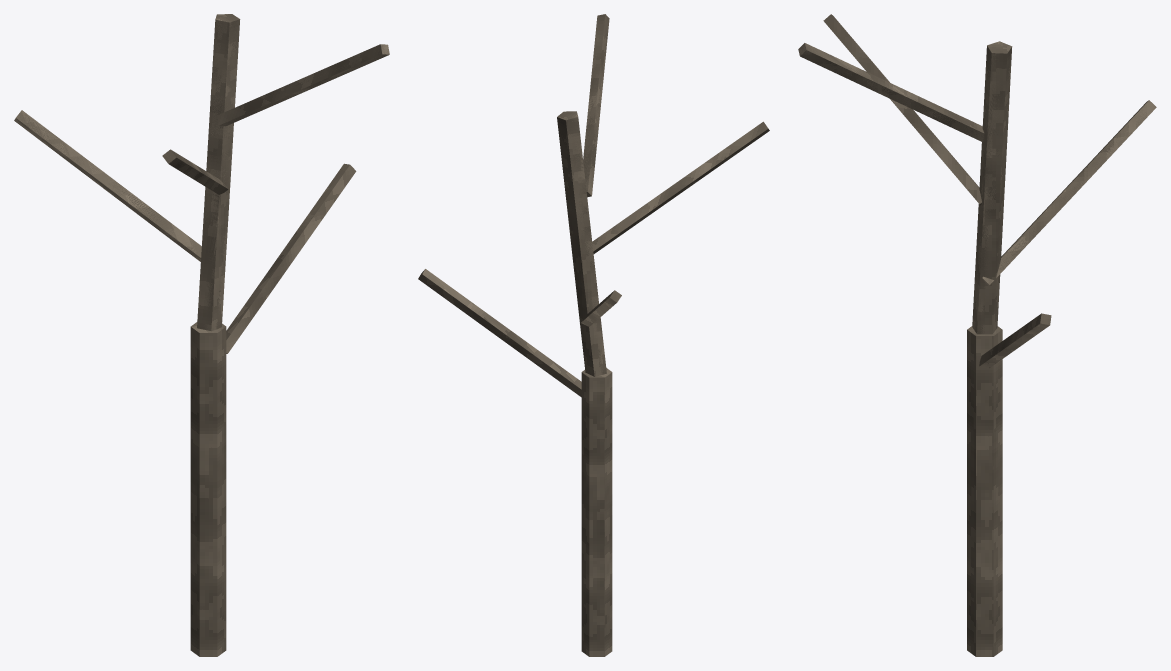
The model's file is arvoreta_seca.glb.
The picture shows the model from 3 angles, left to right: view 1: azimuth 30°, elevation 25°; view 2: azimuth 150°, elevation 25°; view 3: azimuth 270°, elevation 25°; orthographic projection. The views are drawn at different scales.
Parts seen in each view (by area): view 1: Inteiro, Peca_01, Peca_03, Peca_02; view 2: Inteiro, Peca_01, Peca_02, Peca_03; view 3: Inteiro, Peca_03, Peca_01, Peca_02.
Boxes of the visible parts, left/top/right/bottom form: Inteiro: left=14, top=19, right=389, bottom=656; Peca_01: left=197, top=14, right=239, bottom=330; Peca_03: left=15, top=44, right=389, bottom=259; Peca_02: left=168, top=150, right=350, bottom=353; Inteiro: left=419, top=14, right=768, bottom=656; Peca_01: left=557, top=111, right=606, bottom=374; Peca_02: left=418, top=129, right=769, bottom=375; Peca_03: left=583, top=14, right=621, bottom=301; Inteiro: left=798, top=14, right=1156, bottom=656; Peca_03: left=798, top=44, right=1156, bottom=285; Peca_01: left=974, top=41, right=1011, bottom=334; Peca_02: left=979, top=203, right=1047, bottom=368.
Bounding box in the file's own units: 1.16 × 2.42 × 1.22.
1 material, 1 textured.
